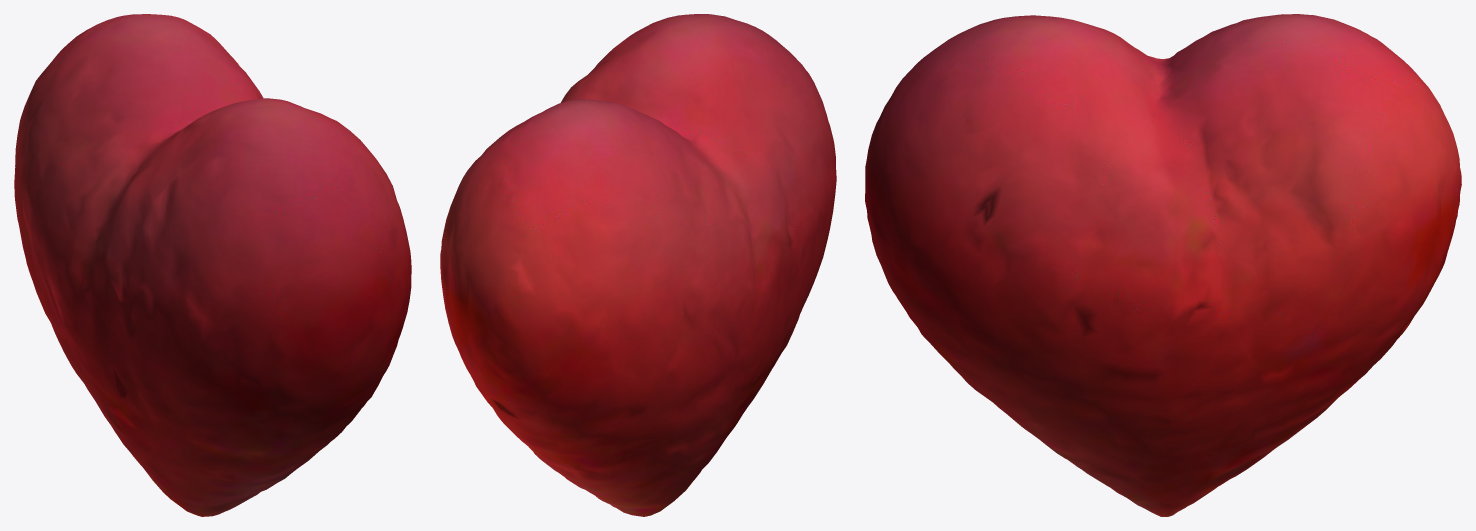
File: heart.glb
3 renders of one model, left to right at view 1: azimuth 30°, elevation 25°; view 2: azimuth 150°, elevation 25°; view 3: azimuth 270°, elevation 25°, orthographic. The views are drawn at different scales.
Visible parts, largest first — view 1: Mesh1; view 2: Mesh1; view 3: Mesh1.
Part boxes in pixels (box(x1,y1,x2,y2)): Mesh1: box(14, 14, 411, 516); Mesh1: box(440, 14, 836, 516); Mesh1: box(865, 14, 1461, 516).
Size of the model in its own units: 0.6605 by 1.08 by 1.2.
Materials: 1 (1 with a texture image).
